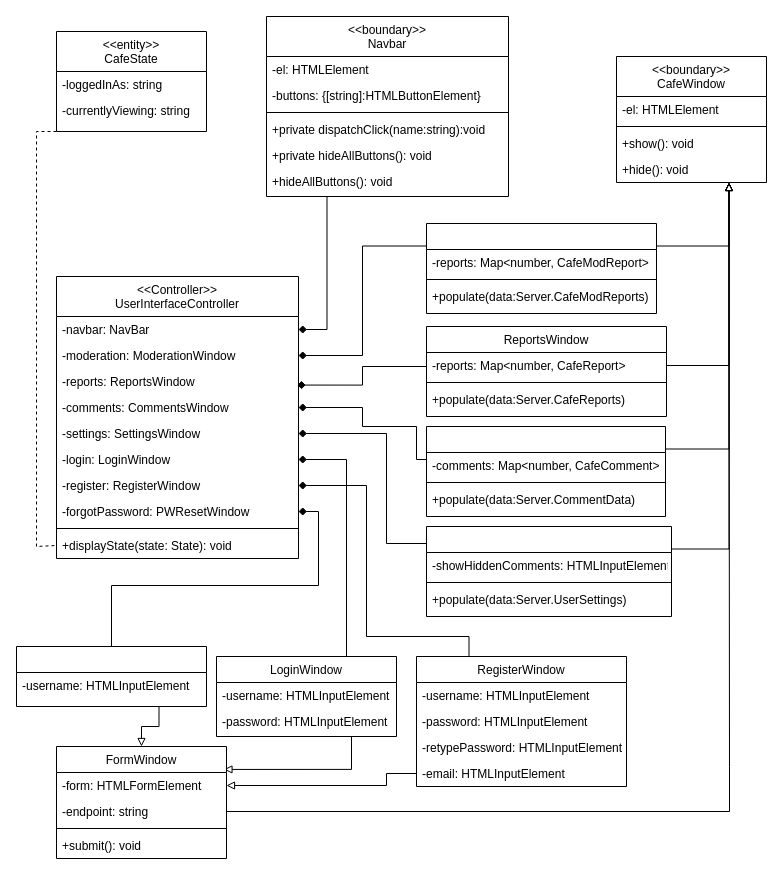
The diagram is 783 pixels wide and 875 high, and some of its shapes have lost their labels. The box of each missing label's shape, as (x1, y1, x2, y2) in pixels:
CommentsWindow: (426, 426, 666, 516)
ModerationWindow: (426, 222, 656, 314)
PWResetWindow: (16, 646, 206, 706)
SettingsWindow: (426, 526, 672, 616)
